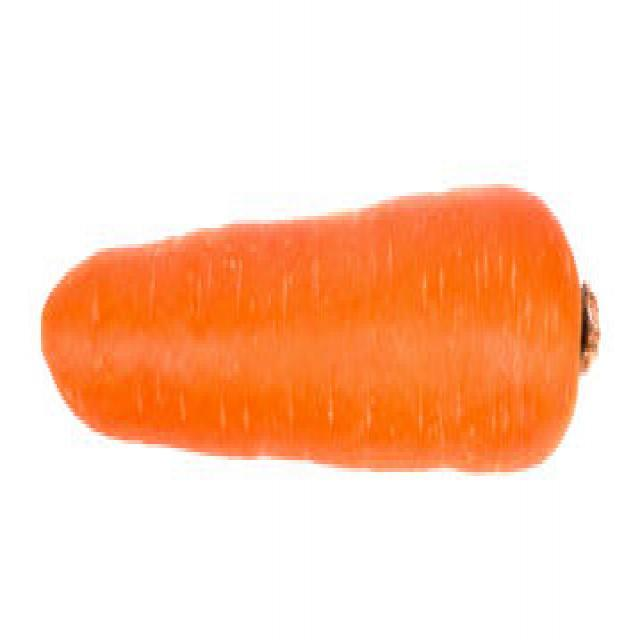Carrot: (31, 184, 600, 482)
